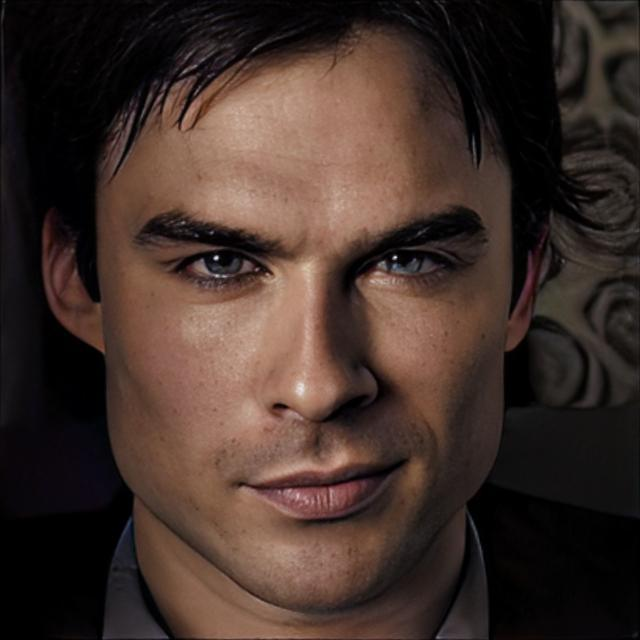content: (96, 25, 512, 613)
